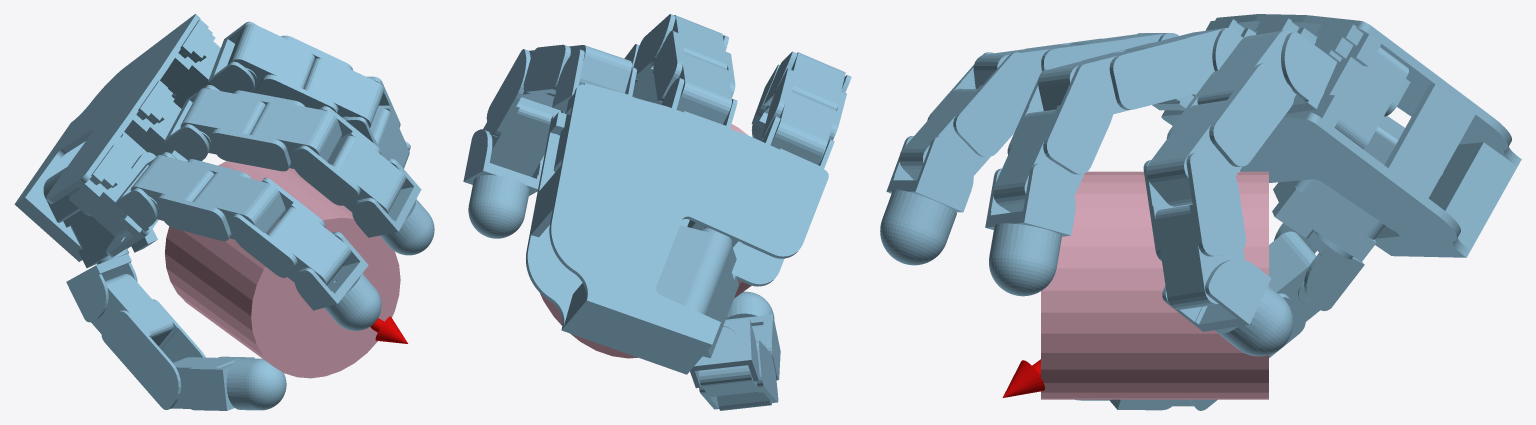
3 renders of one model, left to right at view 1: azimuth 30°, elevation 25°; view 2: azimuth 150°, elevation 25°; view 3: azimuth 270°, elevation 25°, orthographic. The views are drawn at different scales.
Parts seen in each view (by area): view 1: world, cylinder_medium.stl; view 2: world, cylinder_medium.stl; view 3: world, cylinder_medium.stl.
Boxes of the visible parts, <box> form: world: <box>14,14,434,410</box>; cylinder_medium.stl: <box>165,161,400,378</box>; world: <box>463,14,851,410</box>; cylinder_medium.stl: <box>540,124,751,358</box>; world: <box>880,14,1521,410</box>; cylinder_medium.stl: <box>1041,171,1268,399</box>.
Bounding box in the file's own units: 0.1768 × 0.1686 × 0.2251.
